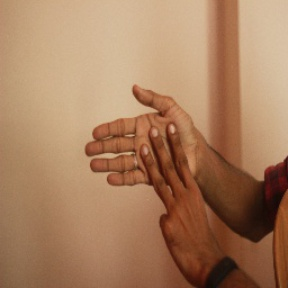M: (82, 82, 207, 217)
